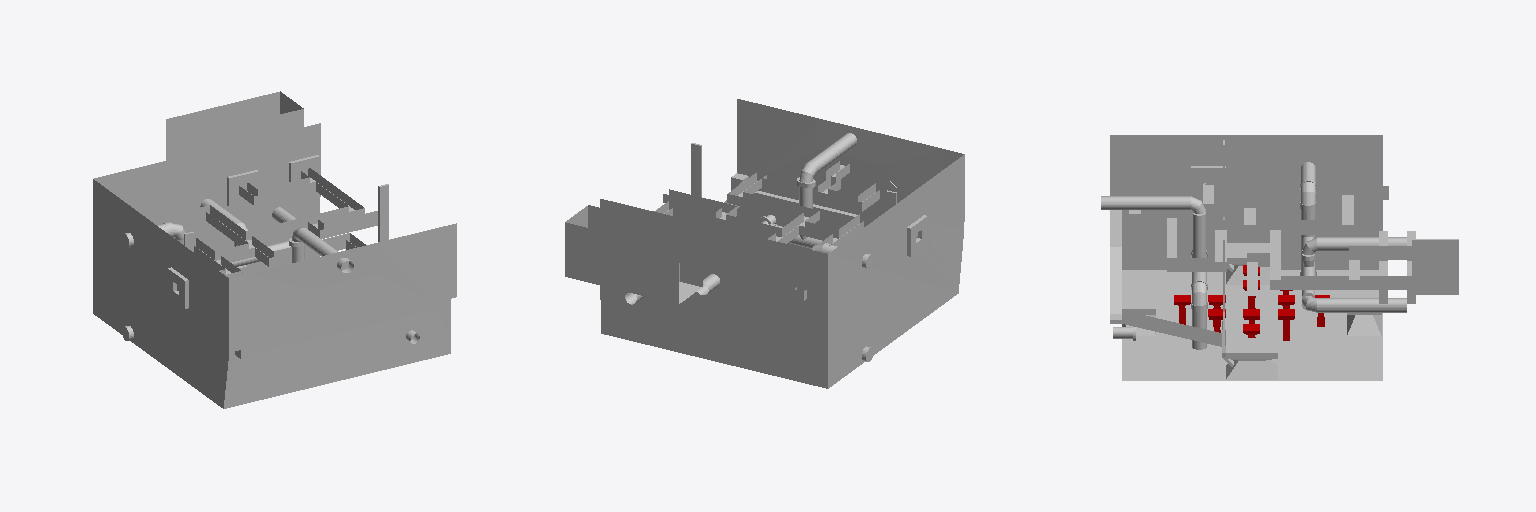
The model's file is JSch_Level_1_Build.obj.
3 views of the same model, side by side, from view 1: azimuth 30°, elevation 25°; view 2: azimuth 150°, elevation 25°; view 3: azimuth 270°, elevation 25° (orthographic).
Parts seen in each view (by area): view 1: Floor_Cube.014, Vents_Cube.013, Jump_Room_Cube.018, Pipes_East_Cylinder.002, Pipe_West_Cylinder; view 2: Floor_Cube.014, Vents_Cube.013, Jump_Room_Cube.018, Pipe_West_Cylinder, Pipes_East_Cylinder.002; view 3: Floor_Cube.014, Vents_Cube.013, Pipes_East_Cylinder.002, Jump_Room_Cube.018, Pipe_West_Cylinder, Starting_Platform_Cube.010, Vent_Platform_Cube.009, Key_1_Platform_Cube.012, Exit_Platform_Cube.011.
Boxes of the visible parts, x1,y1,x2,y2 form: Floor_Cube.014: [93, 123, 456, 408]; Vents_Cube.013: [150, 155, 444, 358]; Jump_Room_Cube.018: [166, 91, 303, 160]; Pipes_East_Cylinder.002: [122, 199, 296, 340]; Pipe_West_Cylinder: [289, 228, 353, 272]; Floor_Cube.014: [600, 99, 964, 388]; Vents_Cube.013: [654, 143, 927, 300]; Jump_Room_Cube.018: [565, 205, 702, 304]; Pipe_West_Cylinder: [770, 133, 856, 248]; Pipes_East_Cylinder.002: [625, 243, 873, 361]; Floor_Cube.014: [1110, 135, 1382, 380]; Vents_Cube.013: [1110, 140, 1388, 366]; Pipes_East_Cylinder.002: [1300, 162, 1406, 312]; Jump_Room_Cube.018: [1388, 231, 1458, 303]; Pipe_West_Cylinder: [1101, 196, 1207, 349]; Starting_Platform_Cube.010: [1226, 338, 1277, 379]; Vent_Platform_Cube.009: [1226, 243, 1269, 284]; Key_1_Platform_Cube.012: [1122, 287, 1155, 335]; Exit_Platform_Cube.011: [1347, 290, 1381, 335].
Size of the model in its own units: 15.49 by 9.1 by 20.65.